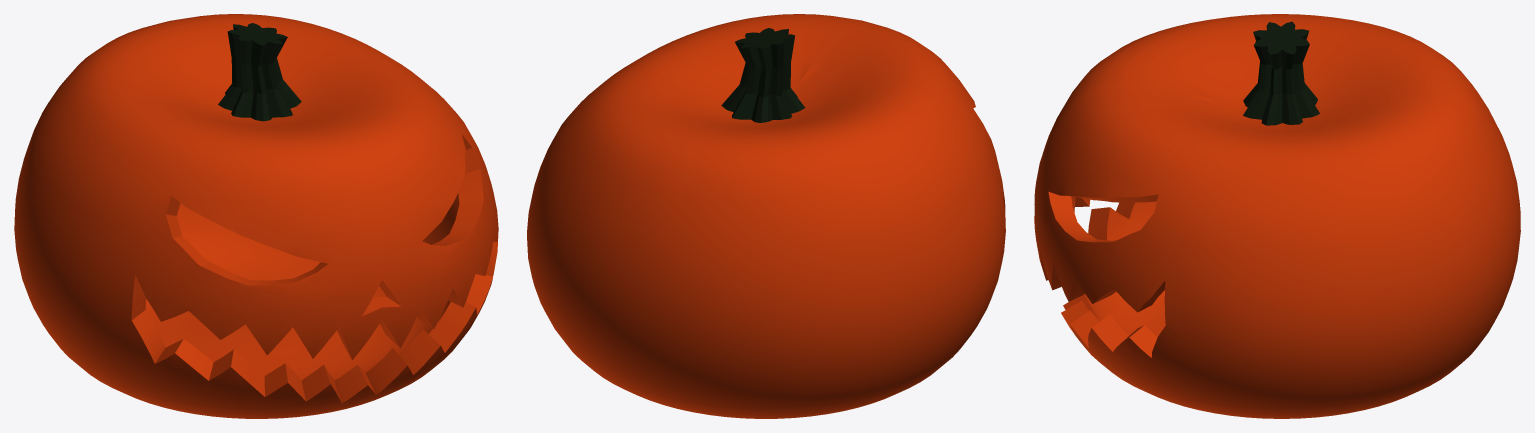
The model's file is pumpkin.obj.
The picture shows the model from 3 angles, left to right: view 1: azimuth 30°, elevation 25°; view 2: azimuth 150°, elevation 25°; view 3: azimuth 270°, elevation 25°; orthographic projection.
Parts seen in each view (by area): view 1: Sphere, Cylinder; view 2: Sphere, Cylinder; view 3: Sphere, Cylinder.
Part boxes in pixels (left/top/right/bottom): Sphere: left=14, top=14, right=498, bottom=418; Cylinder: left=218, top=23, right=301, bottom=121; Sphere: left=527, top=14, right=1005, bottom=418; Cylinder: left=721, top=28, right=805, bottom=122; Sphere: left=1034, top=14, right=1520, bottom=418; Cylinder: left=1243, top=21, right=1319, bottom=125.
Bounding box in the file's own units: 1.93 × 1.45 × 1.96.
